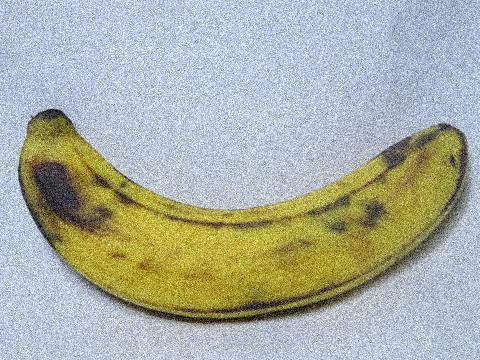ripe: (9, 97, 479, 330)
